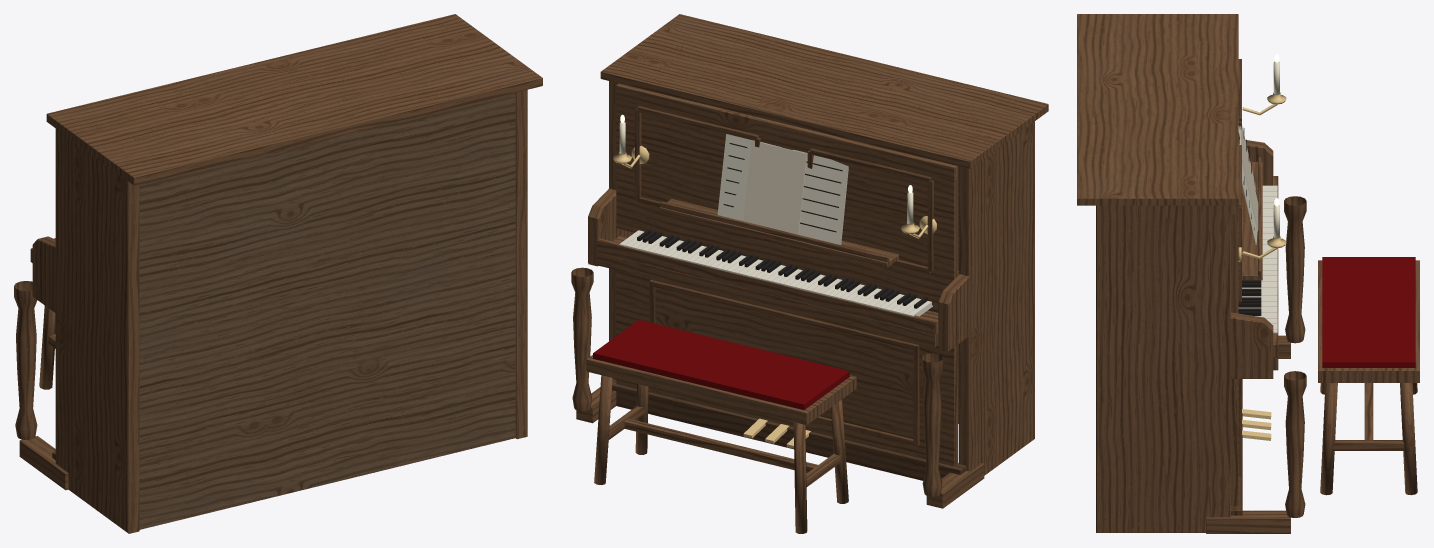
File: instr_piano.glb
The picture shows the model from 3 angles, left to right: view 1: azimuth 30°, elevation 25°; view 2: azimuth 150°, elevation 25°; view 3: azimuth 270°, elevation 25°; orthographic projection. The views are drawn at different scales.
Parts seen in each view (by area): view 1: piano_wood; view 2: piano_wood, piano_felt, piano_paper, piano_ivory, piano_ebony, piano_brass; view 3: piano_wood, piano_felt, piano_ivory, piano_brass, piano_paper, piano_ebony.
Boxes of the visible parts, <box> form: piano_wood: <box>14,14,542,533</box>; piano_wood: <box>571,14,1048,533</box>; piano_felt: <box>593,320,849,409</box>; piano_paper: <box>717,134,848,244</box>; piano_ivory: <box>619,122,932,316</box>; piano_ebony: <box>637,143,927,308</box>; piano_brass: <box>613,145,936,448</box>; piano_wood: <box>1077,14,1419,533</box>; piano_felt: <box>1322,257,1415,367</box>; piano_ivory: <box>1239,61,1279,333</box>; piano_brass: <box>1238,92,1286,440</box>; piano_paper: <box>1238,125,1258,244</box>; piano_ebony: <box>1238,128,1261,315</box>.
Bounding box in the file's own units: 1.54 × 1.31 × 1.21.
Materials: 7 (1 with a texture image).
